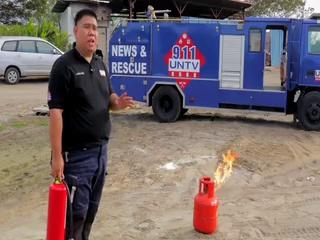Fire: (208, 150, 232, 189)
